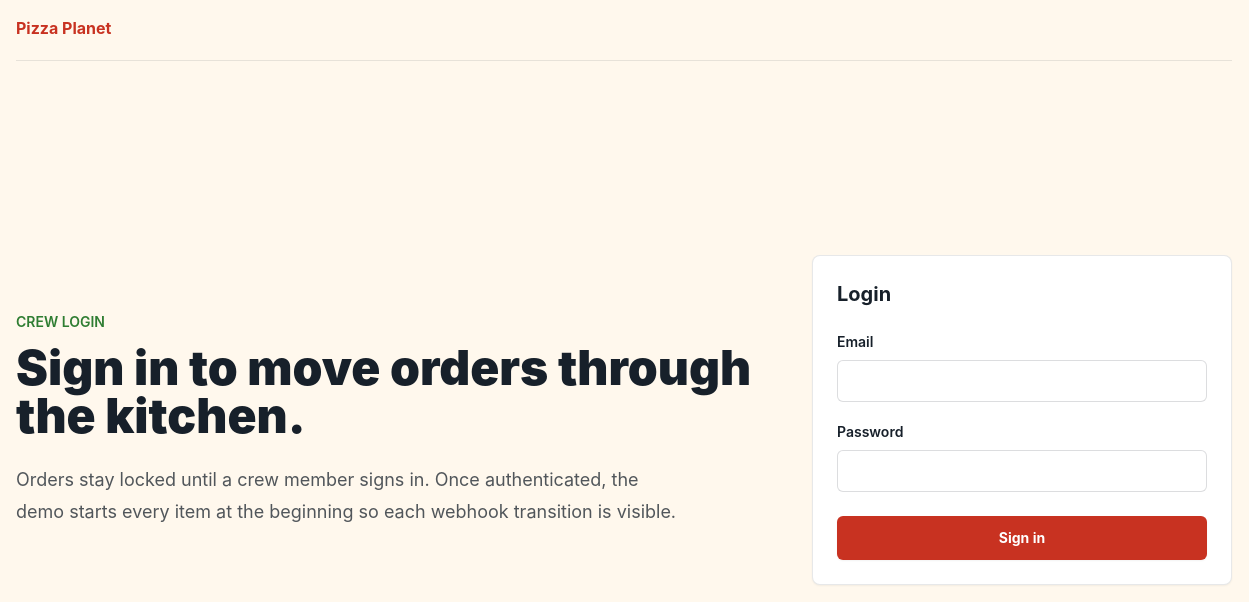
Test case: HomePage › logs in with typed credentials and renders seeded orders
In the field named "email": x=1022, y=380 top-left (837, 360), bottom-right (1207, 402), type "mario@pizzaplanet.test"
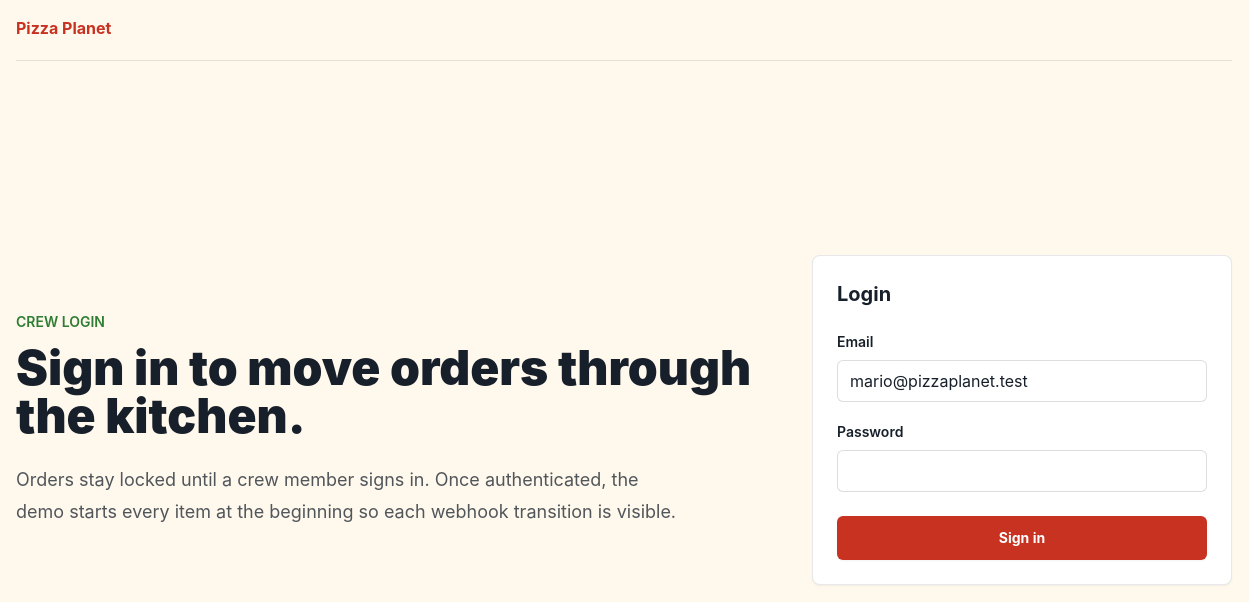
In the password field named "password": x=1022, y=470 top-left (837, 450), bottom-right (1207, 492), type "ilovepizza"
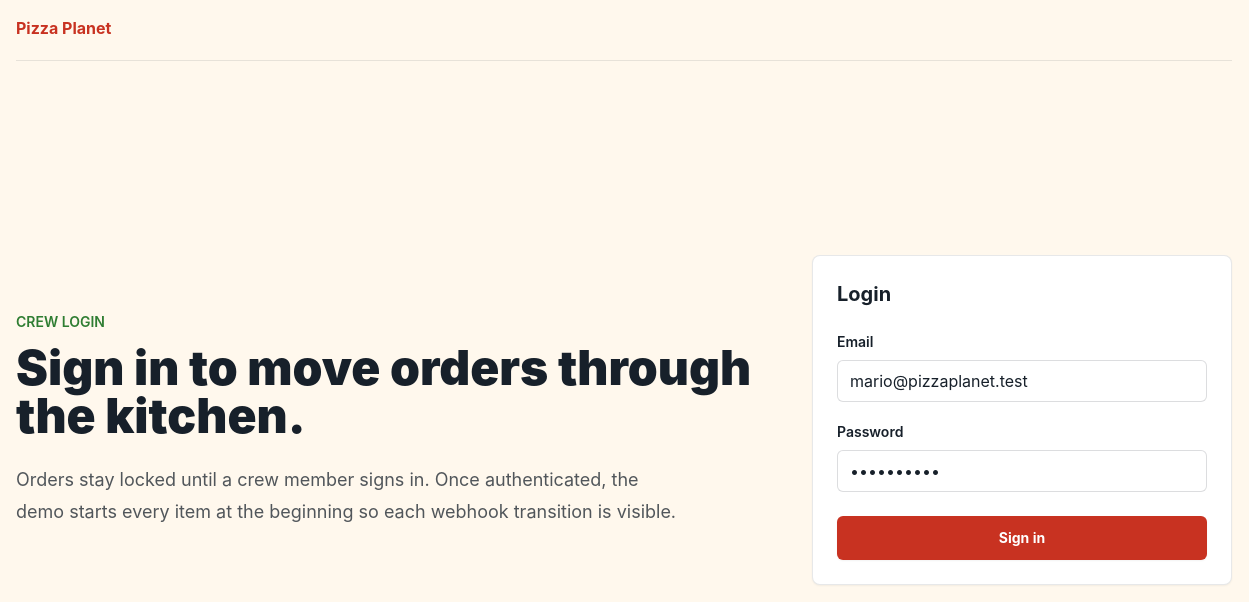
Submit the form, box top-left (812, 254), bottom-right (1232, 584)
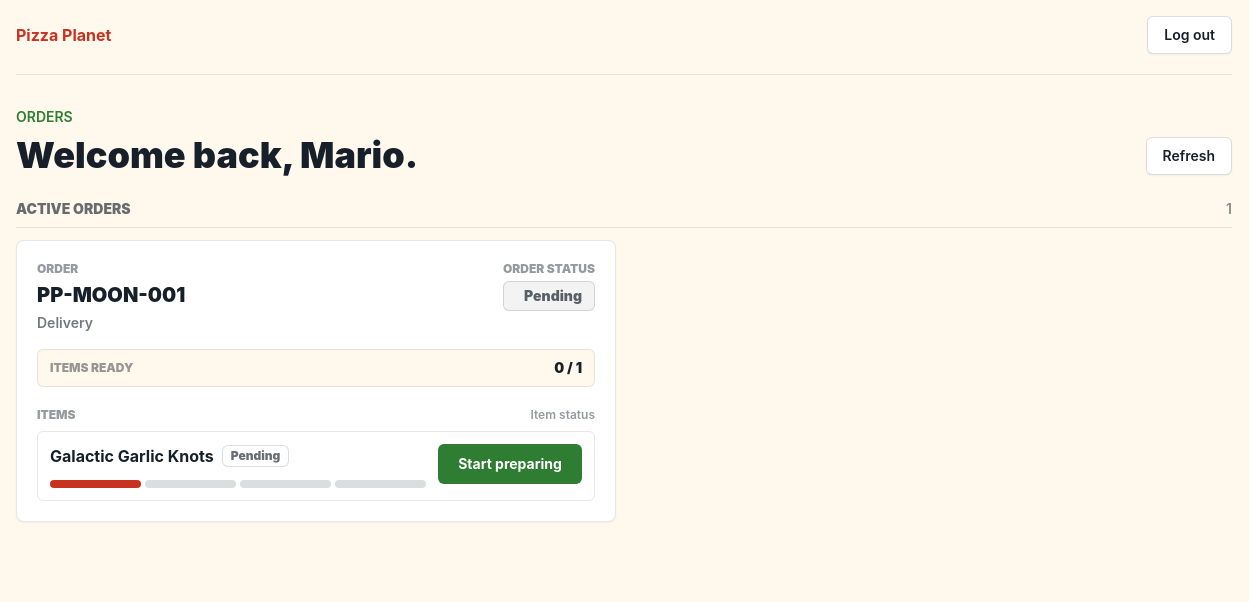
Now the text "Welcome back, Mario." is shown, box top-left (16, 135), bottom-right (418, 175)
Now the text "PP-MOON-001" is shown, box top-left (37, 281), bottom-right (185, 309)
Now the text "Galactic Garlic Knots" is shown, box top-left (50, 444), bottom-right (214, 468)
